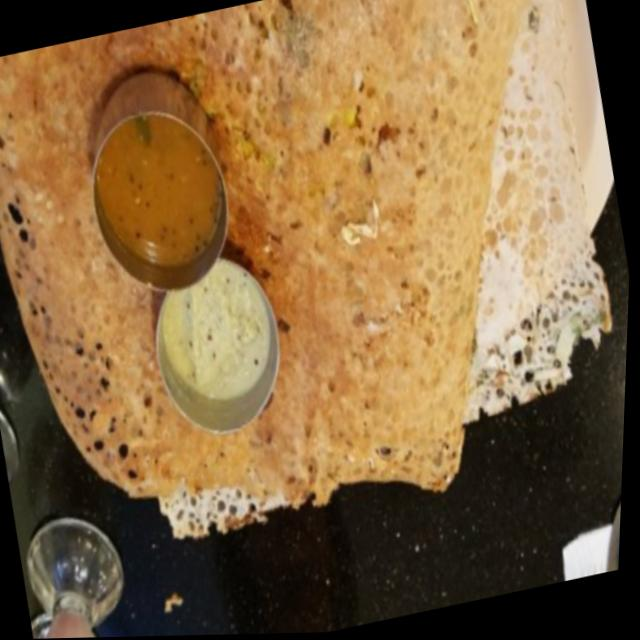DOSA: (0, 0, 613, 541)
SAMBAR: (98, 115, 218, 256)
WHITE CHUTNEY: (161, 262, 265, 403)
